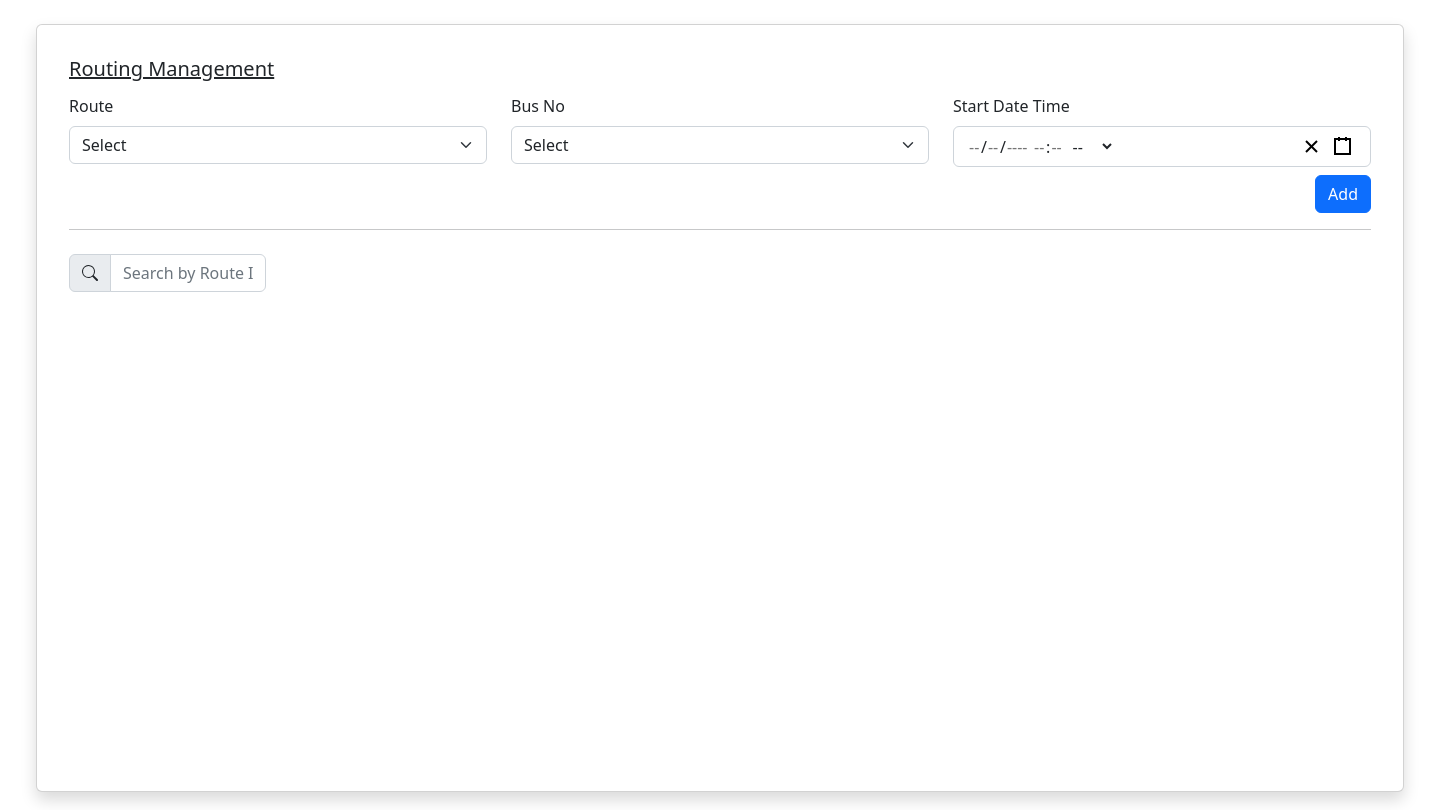
Test: RouteManager Component test › should show validation error when click on Add button without filling the details
Click the button "Add": (1343, 194) [1315,175,1371,213]
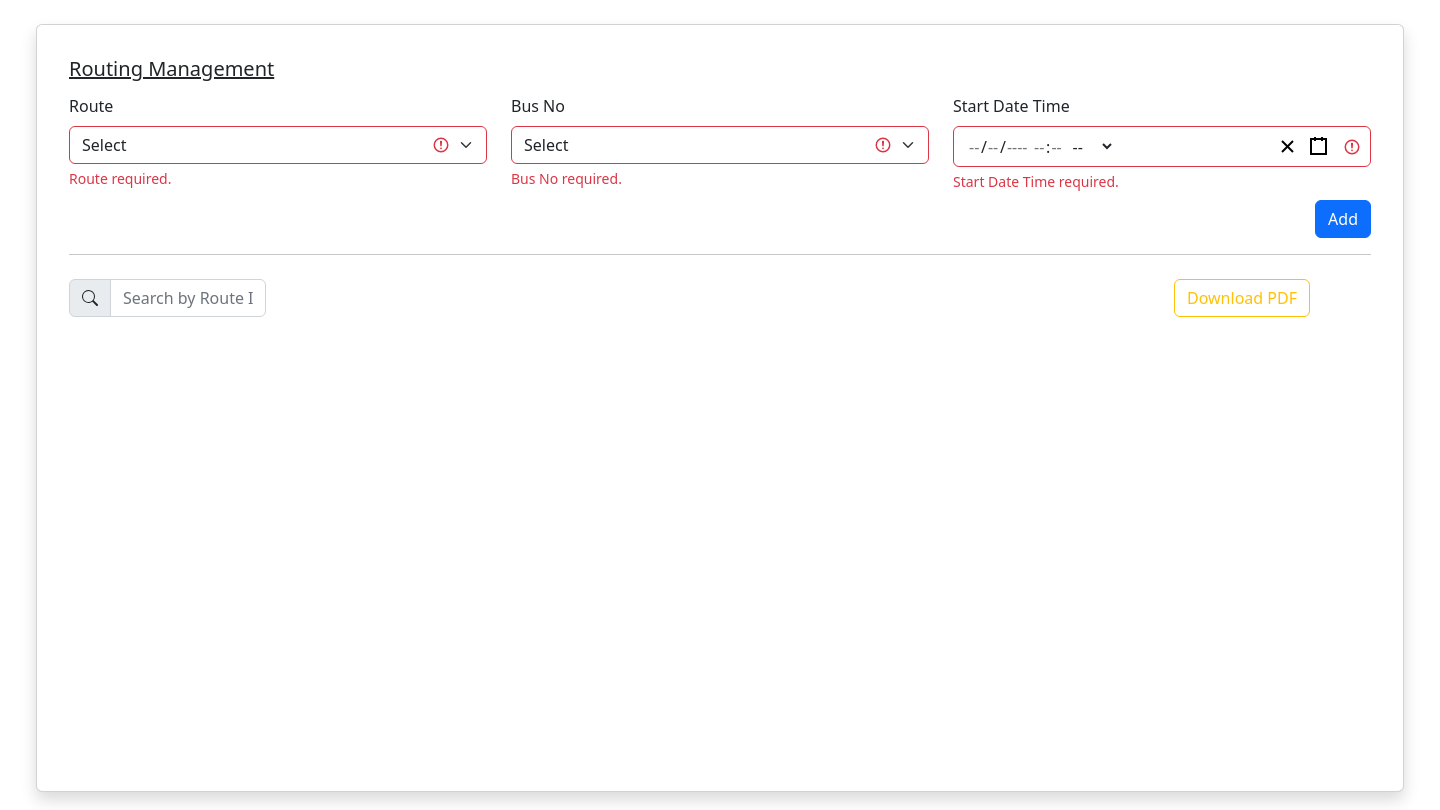
expect the text "Route required." is shown: met, box [69,169,172,188]
expect the text "Bus No required." is shown: met, box [511,169,622,188]
expect the text "Start Date Time required." is shown: met, box [953,172,1119,191]
